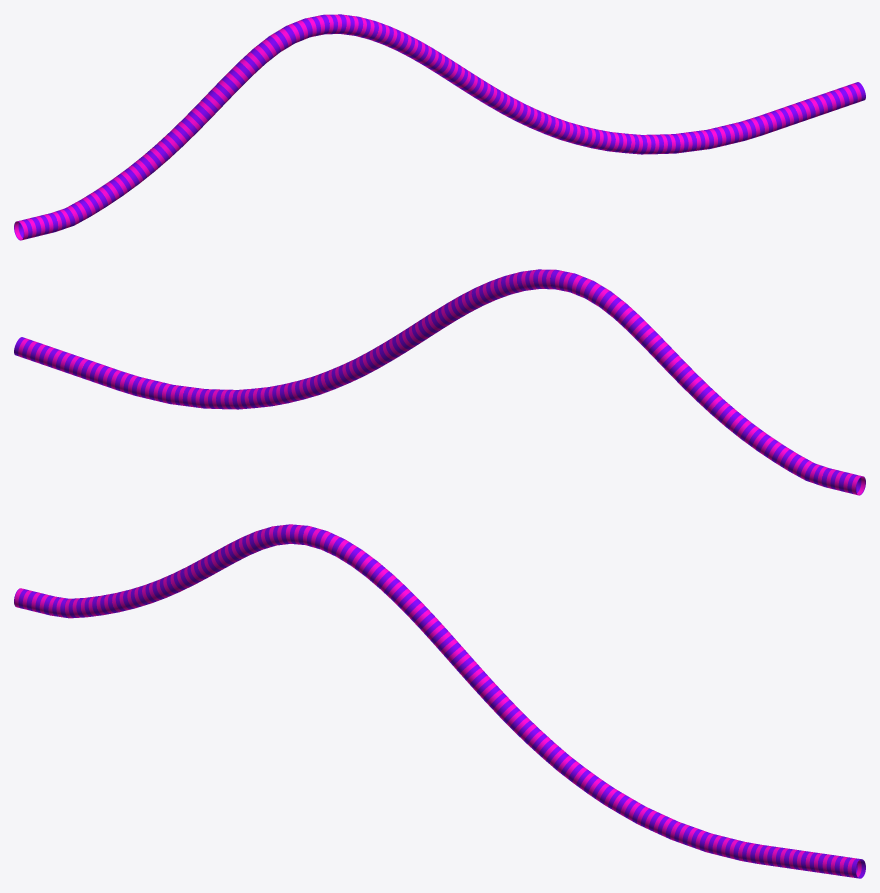
The model's file is racing_ramp.glb.
3 views of the same model, one above another, from view 1: azimuth 30°, elevation 25°; view 2: azimuth 150°, elevation 25°; view 3: azimuth 330°, elevation 25° (orthographic).
Visible parts, largest first — view 1: Cylinder; view 2: Cylinder; view 3: Cylinder.
Part boxes in pixels (x1,y1,x2,y2): Cylinder: (14,14,865,240); Cylinder: (14,269,865,495); Cylinder: (14,524,865,878).
Size of the model in its own units: 329 by 84.66 by 6.62.
Materials: 1 (1 with a texture image).
